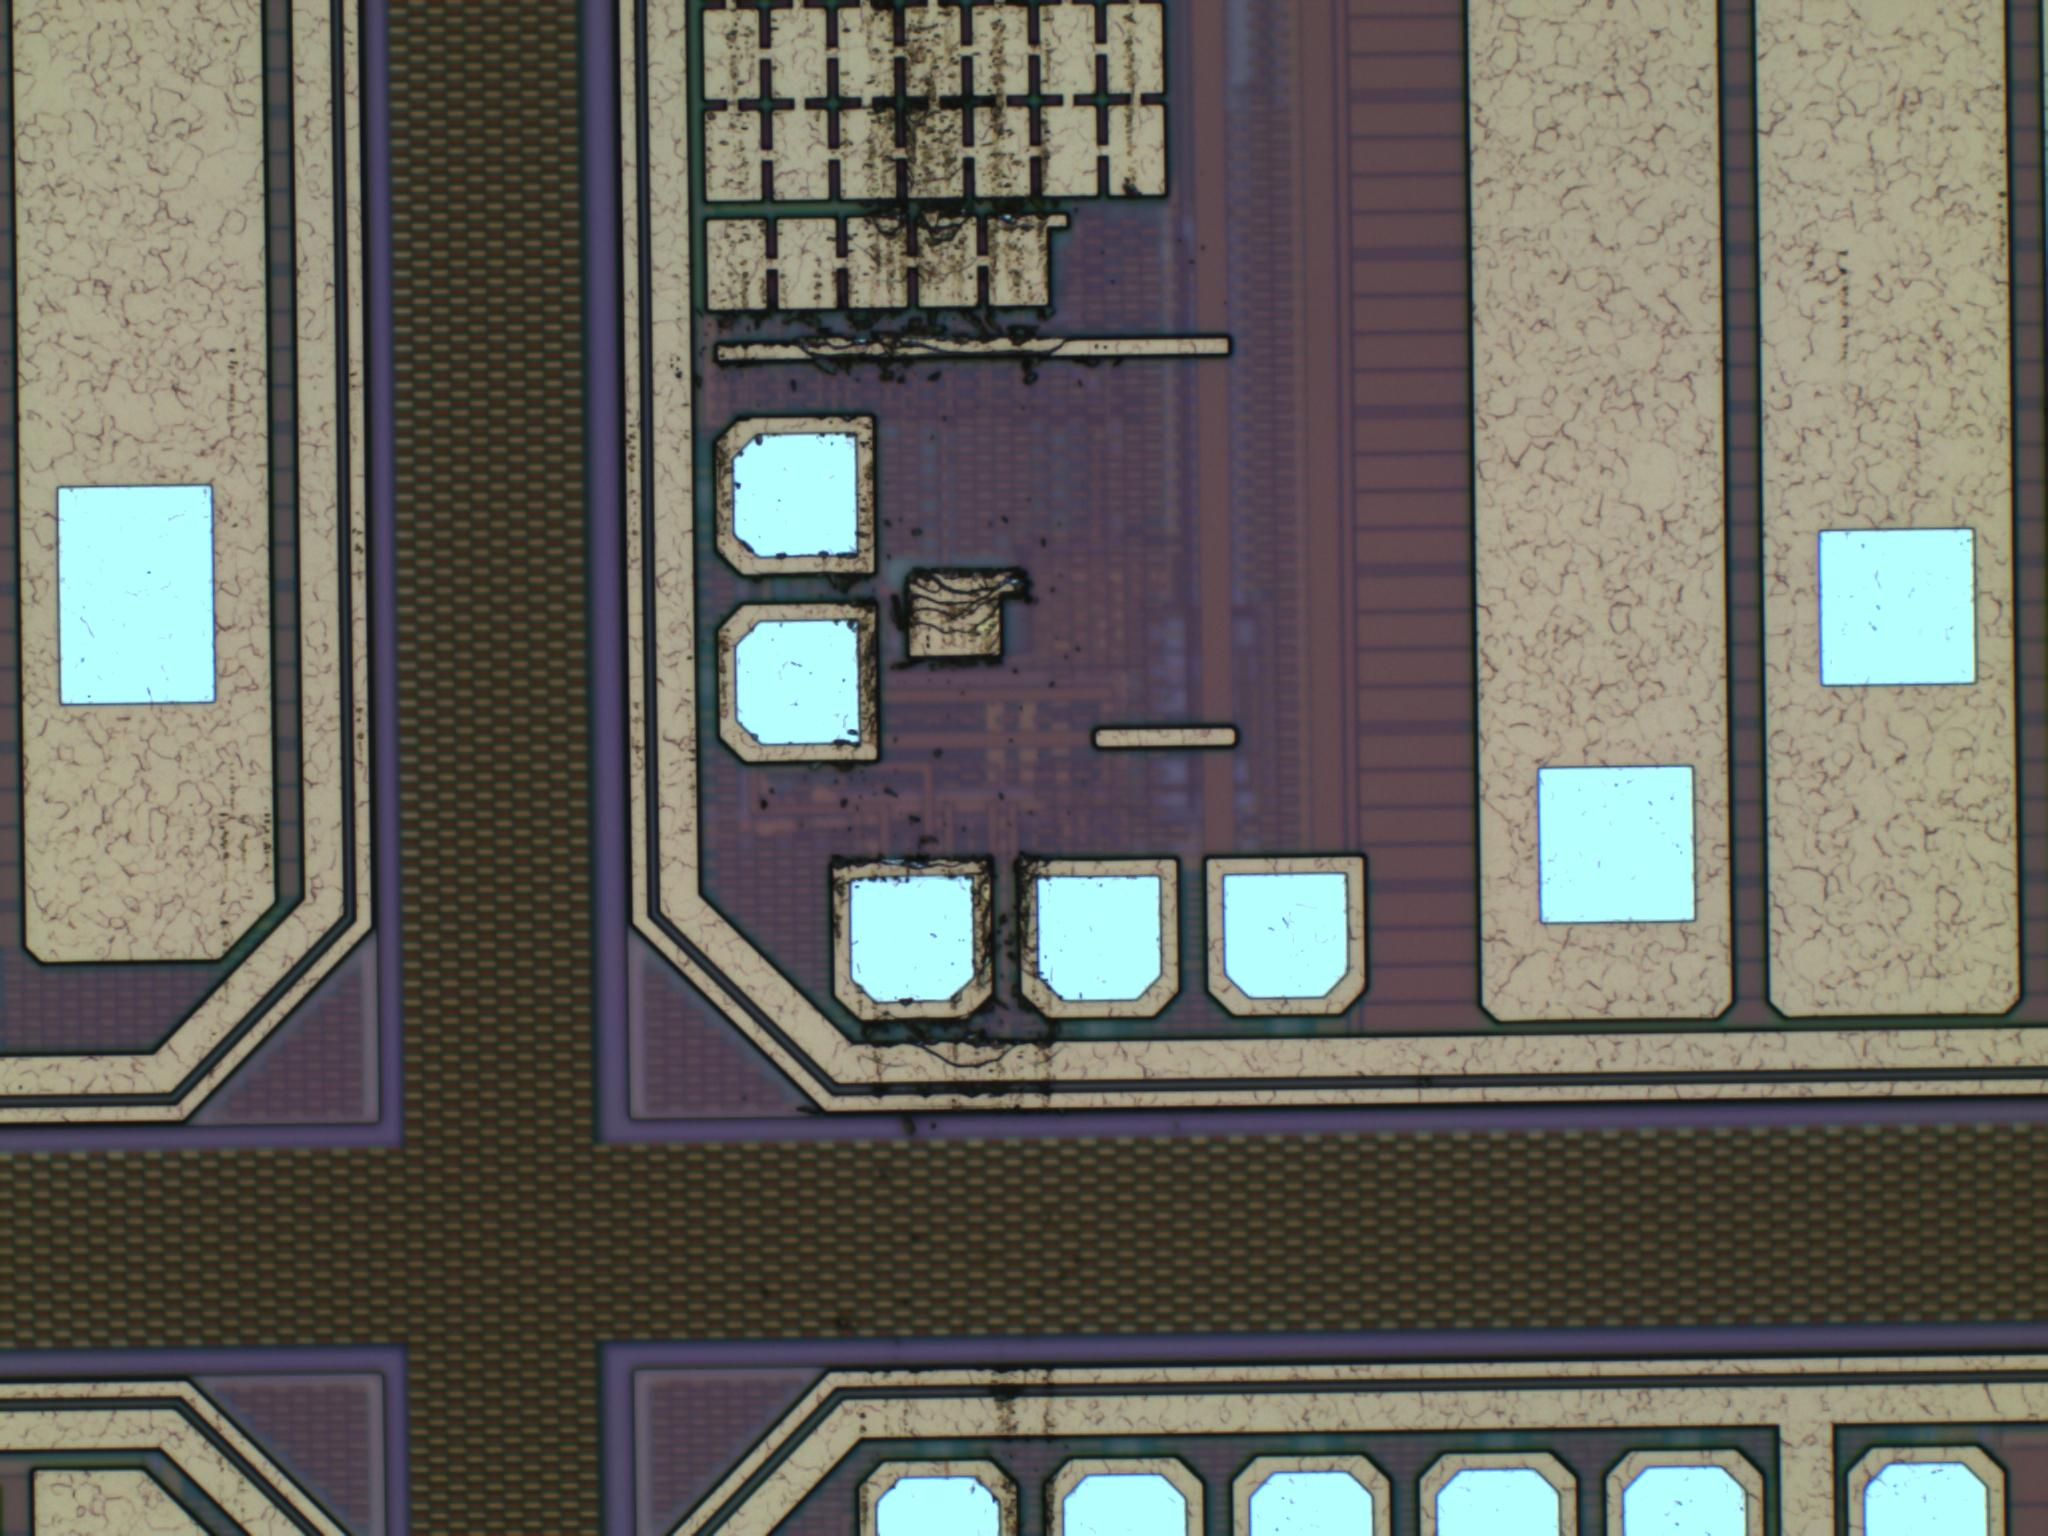SCRATCH: (689, 2, 1171, 1536)
